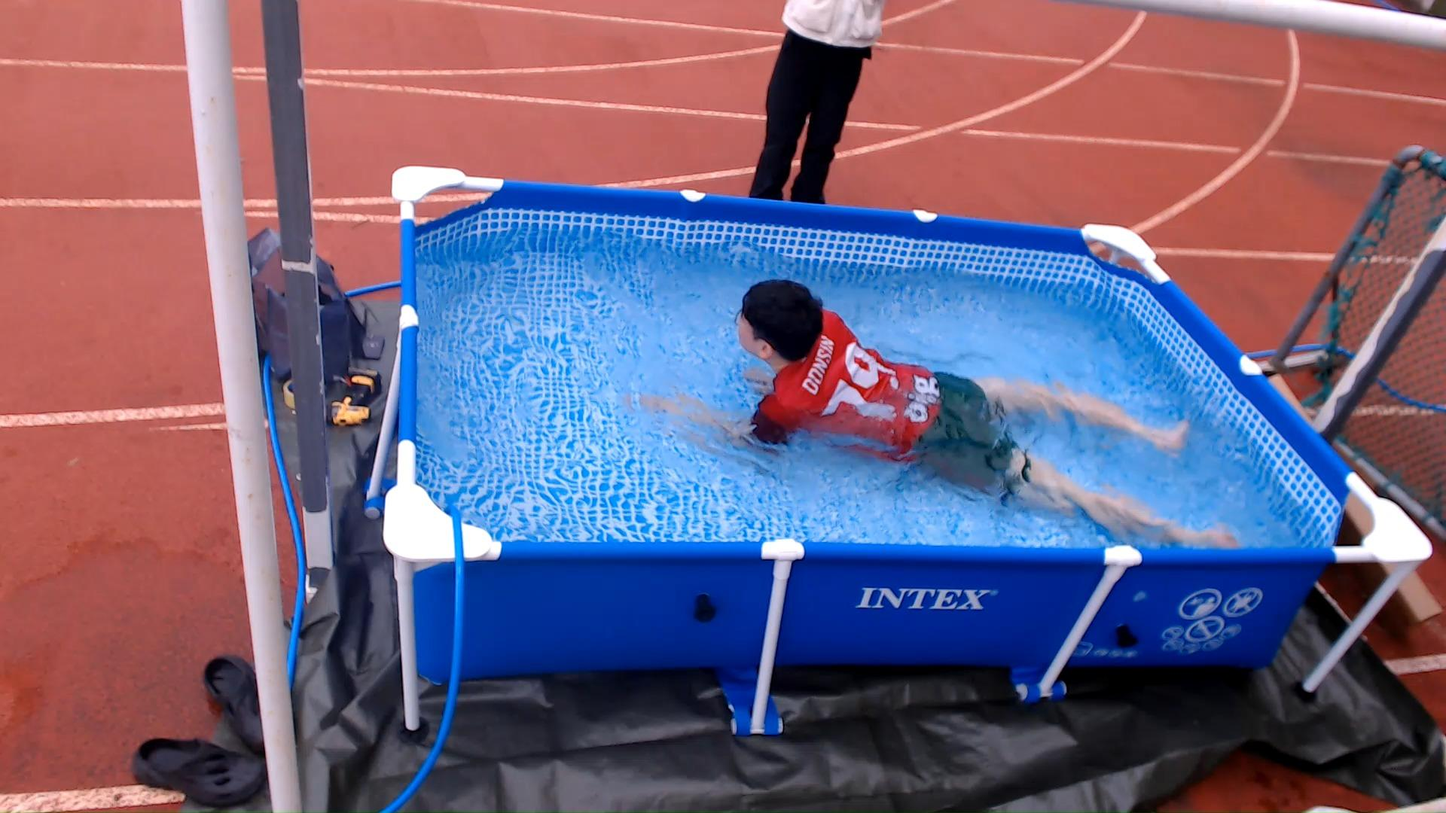Person-out-of-water: (695, 0, 892, 216)
Swimming: (657, 264, 1250, 545)
